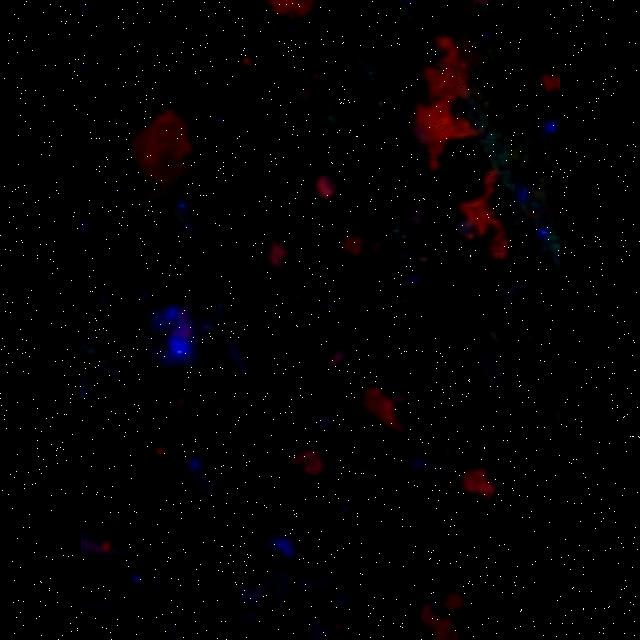Fragment: (461, 466, 495, 499)
